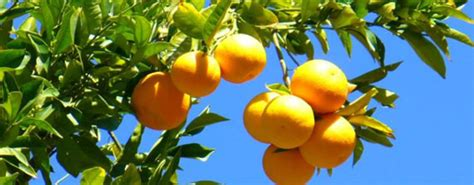orange: (130, 70, 192, 132), (290, 58, 349, 113), (264, 96, 314, 150), (217, 32, 268, 84), (169, 49, 223, 96)
